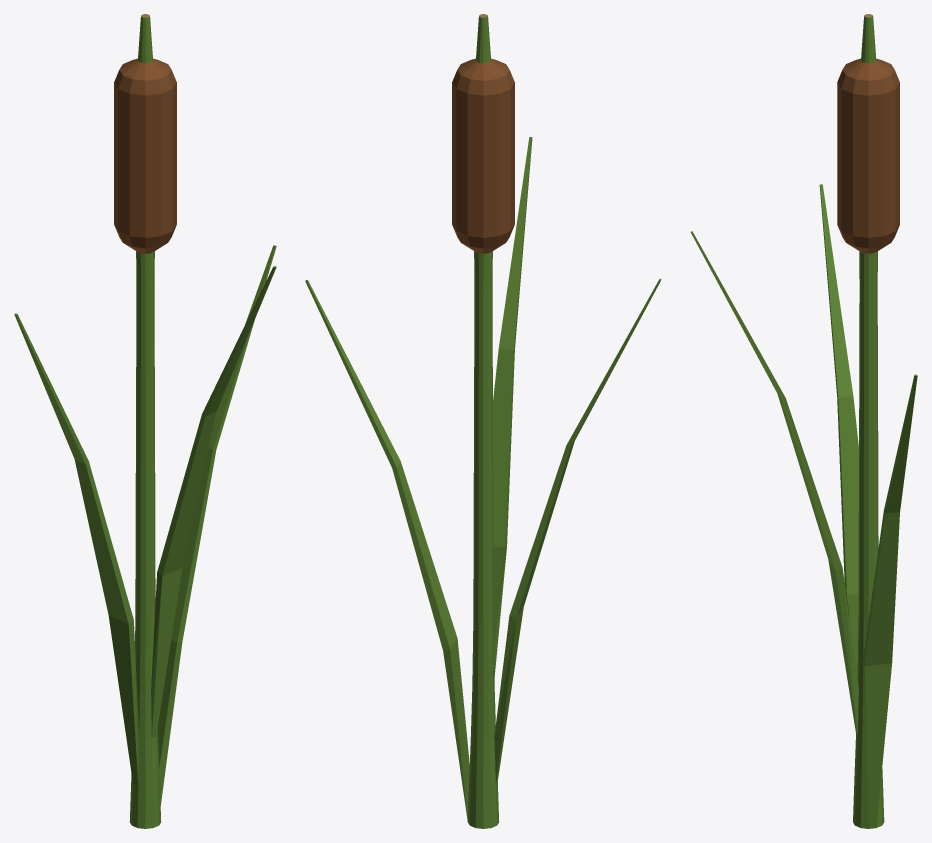
File: NEW_RECOVERY_078_LOD1.glb
3 views of the same model, side by side, from view 1: azimuth 30°, elevation 25°; view 2: azimuth 150°, elevation 25°; view 3: azimuth 270°, elevation 25° (orthographic).
Visible parts, largest first — view 1: Cattail_whole_plant; view 2: Cattail_whole_plant; view 3: Cattail_whole_plant.
Part boxes in pixels (x1=…): Cattail_whole_plant: x1=14, y1=14, x2=276, y2=828; Cattail_whole_plant: x1=305, y1=14, x2=661, y2=828; Cattail_whole_plant: x1=690, y1=14, x2=917, y2=828.
Size of the model in its own units: 1.02 by 2.55 by 0.6514.
